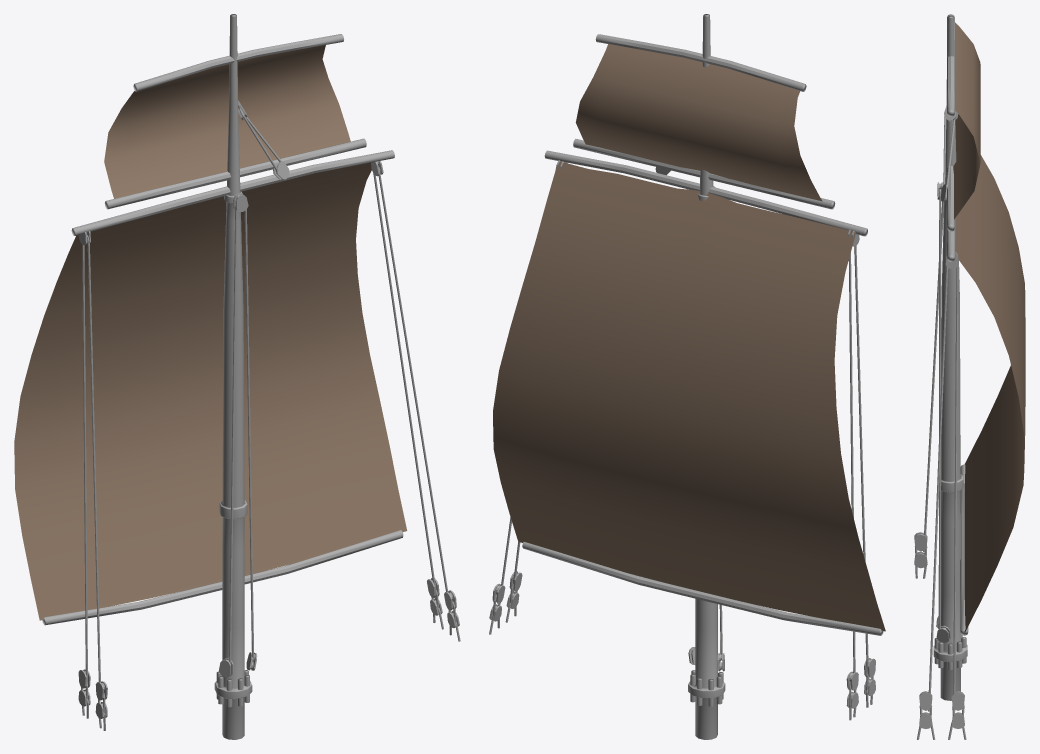
Rendered from Sail_1.fbx.
The picture shows the model from 3 angles, left to right: view 1: azimuth 30°, elevation 25°; view 2: azimuth 150°, elevation 25°; view 3: azimuth 270°, elevation 25°; orthographic projection. The views are drawn at different scales.
Visible parts, largest first — view 1: Sail, Mast; view 2: Sail, Mast; view 3: Sail, Mast.
Part boxes in pixels (left/top/right/bottom): Sail: left=14, top=45, right=407, bottom=620; Mast: left=42, top=14, right=460, bottom=739; Sail: left=493, top=44, right=885, bottom=631; Mast: left=489, top=14, right=883, bottom=739; Sail: left=953, top=22, right=1025, bottom=632; Mast: left=914, top=14, right=968, bottom=739.
Bounding box in the file's own units: 13.31 × 23.07 × 3.43.
